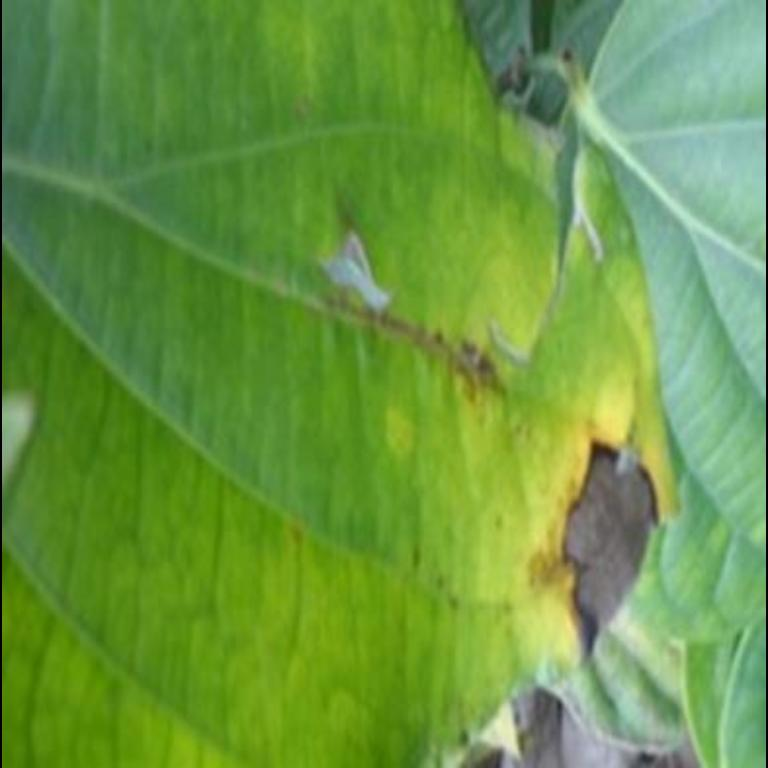blight: (544, 414, 670, 648)
